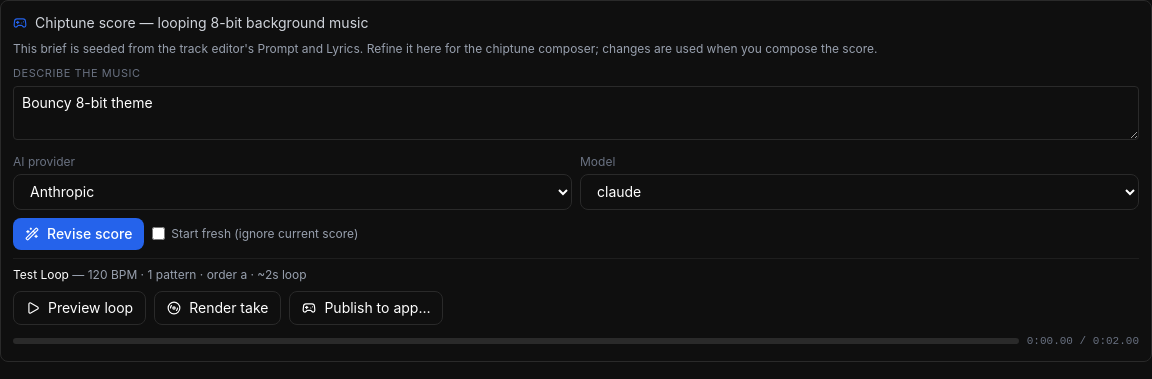
it: ChiptunePanel › preview progress bar › tracks the playhead across a loop pass and wraps on the next one
The width and height of the screenshot is (1152, 379).
Click the button "Preview loop" at [80, 308], box [13, 290, 146, 324]
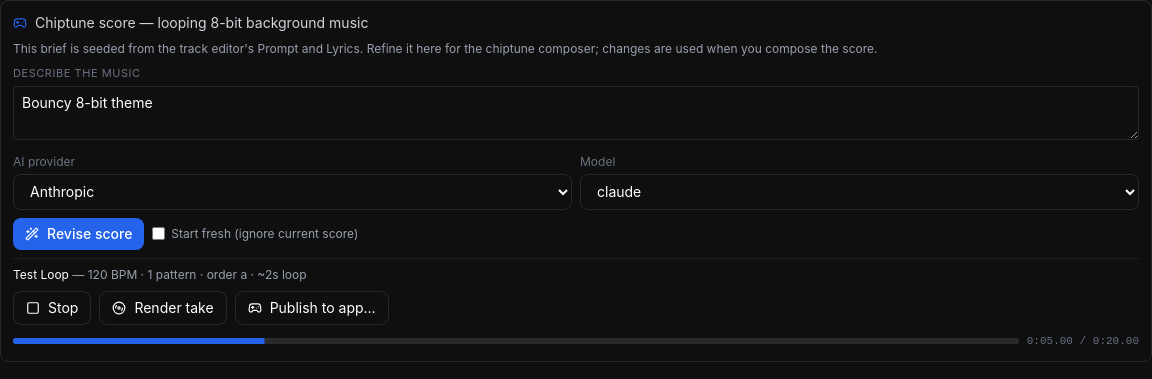
Expected: the button "Stop" is shown, [13, 290, 91, 324]
Expected: the text with test id "chiptune-progress-time" reads "0:05.00", [1027, 334, 1073, 346]
